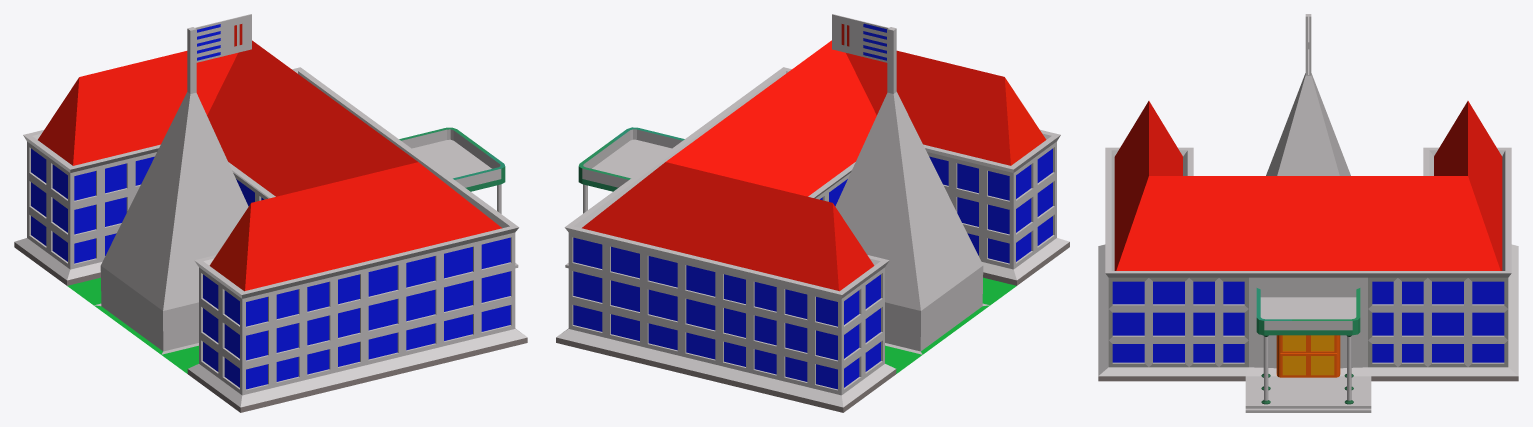
File: 5 Meria.fbx
3 views of the same model, side by side, from view 1: azimuth 30°, elevation 25°; view 2: azimuth 150°, elevation 25°; view 3: azimuth 270°, elevation 25° (orthographic). The views are drawn at different scales.
Parts seen in each view (by area): view 1: Cube.005; view 2: Cube.005; view 3: Cube.005.
Boxes of the visible parts, x1,y1,x2,y2 form: Cube.005: (14,14,527,412); Cube.005: (556,14,1069,412); Cube.005: (1098,14,1518,412).
Bounding box in the file's own units: 2240 × 1710 × 2458.
